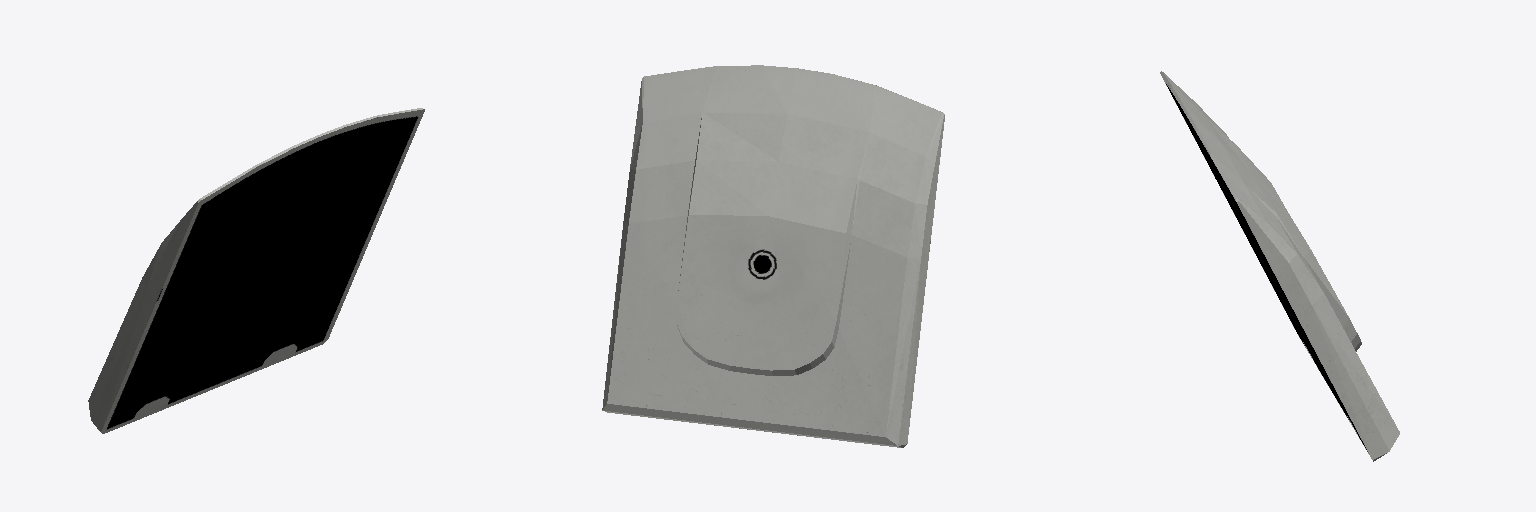
3 renders of one model, left to right at view 1: azimuth 30°, elevation 25°; view 2: azimuth 150°, elevation 25°; view 3: azimuth 270°, elevation 25°, orthographic.
Parts seen in each view (by area): view 1: top_main_low; view 2: top_main_low; view 3: top_main_low.
Boxes of the visible parts, x1,y1,x2,y2 form: top_main_low: [88, 108, 424, 433]; top_main_low: [602, 65, 944, 447]; top_main_low: [1160, 71, 1399, 461].
Size of the model in its own units: 4.94 by 4.8 by 3.49.
Materials: 1 (1 with a texture image).